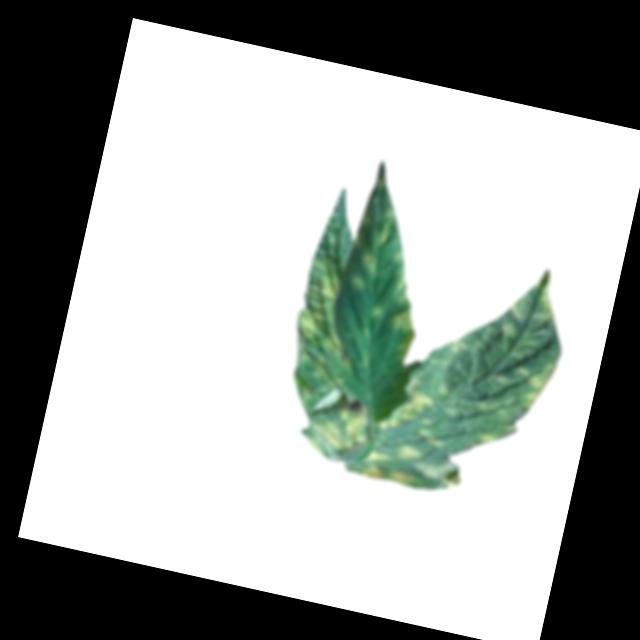Leaf_Mold: (267, 254, 397, 468), (362, 366, 480, 498), (476, 349, 559, 458), (382, 300, 422, 365), (351, 250, 379, 271)
